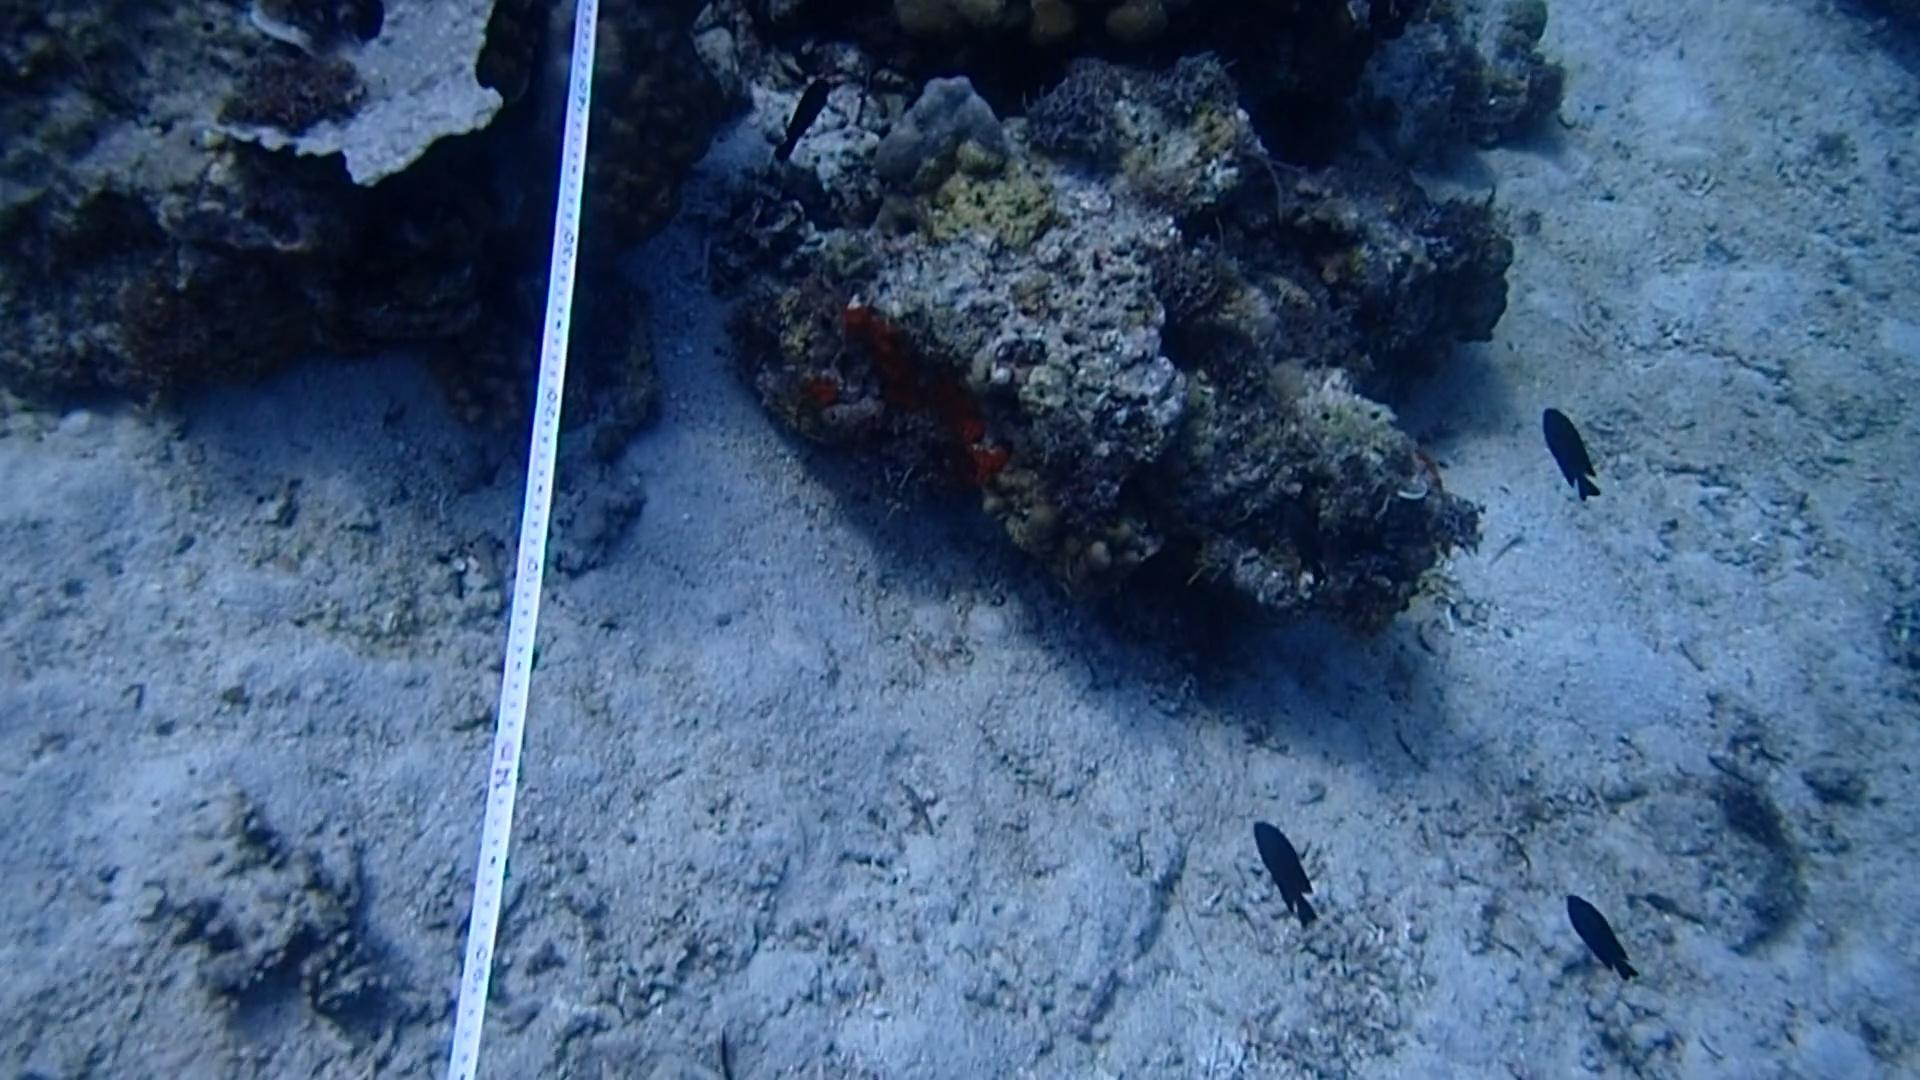Dark Fish: (1236, 808, 1333, 932), (1559, 886, 1647, 997), (1538, 394, 1610, 516), (766, 71, 844, 160)
